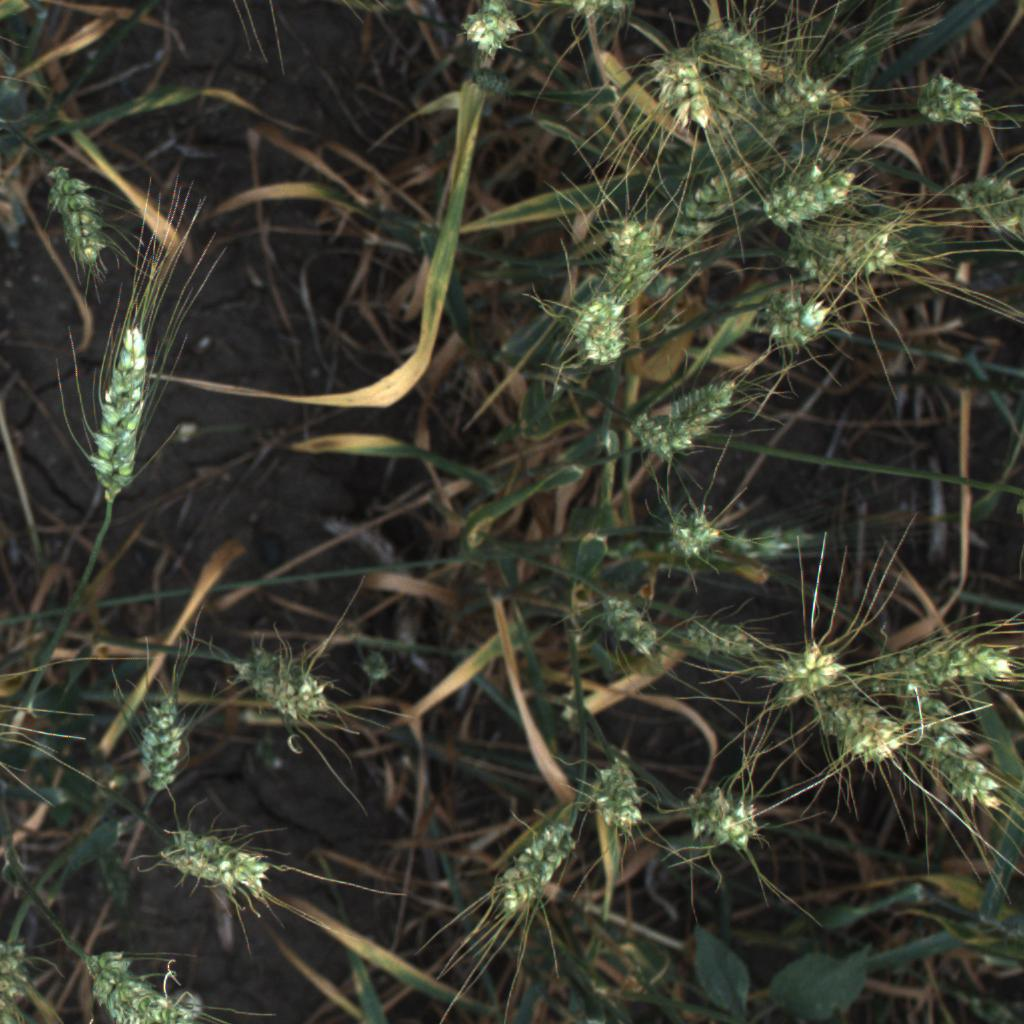0-0: (77, 307, 170, 507), (899, 686, 1013, 824), (857, 612, 1024, 702), (71, 941, 216, 1024), (663, 144, 766, 260), (149, 817, 282, 902), (35, 152, 121, 283), (489, 811, 582, 924), (577, 734, 657, 854), (224, 652, 343, 732), (129, 683, 192, 826), (763, 625, 862, 713), (683, 774, 776, 867), (583, 207, 673, 303), (583, 568, 666, 671), (807, 692, 912, 772), (755, 160, 881, 225), (653, 492, 747, 579), (782, 228, 910, 288), (444, 0, 534, 79), (640, 47, 719, 136), (759, 289, 854, 363), (945, 165, 1024, 251), (898, 69, 1001, 133), (671, 376, 746, 463), (750, 64, 843, 129), (568, 292, 635, 377), (676, 602, 763, 664), (684, 16, 770, 78), (615, 407, 694, 474), (0, 912, 42, 1024), (557, 0, 636, 39)
